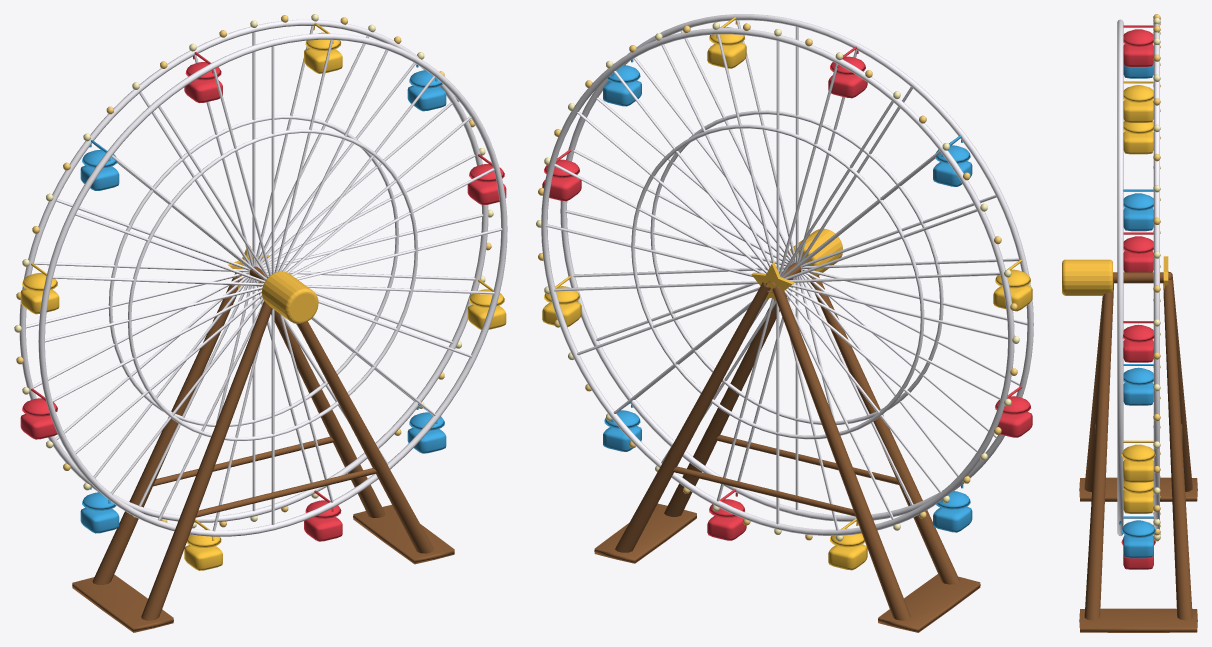
File: PumpFerrisWheel.obj
The picture shows the model from 3 angles, left to right: view 1: azimuth 30°, elevation 25°; view 2: azimuth 150°, elevation 25°; view 3: azimuth 270°, elevation 25°; orthographic projection. The views are drawn at different scales.
Visible parts, largest first — view 1: Wheel, Frame, CarsB, CarsC, CarsA, Hub, BulbsA, BulbsB; view 2: Wheel, Frame, CarsC, CarsA, CarsB, Hub, BulbsA, BulbsB; view 3: Frame, Wheel, CarsC, CarsB, CarsA, Hub, BulbsA, BulbsB.
Part boxes in pixels (x1,y1,x2,y2): Wheel: [19, 19, 507, 536]; Frame: [72, 266, 454, 632]; CarsB: [80, 64, 446, 533]; CarsC: [20, 22, 506, 570]; CarsA: [20, 52, 506, 541]; Hub: [228, 245, 318, 323]; BulbsA: [14, 14, 493, 528]; BulbsB: [16, 15, 491, 527]; Wheel: [541, 14, 1033, 535]; Frame: [594, 263, 980, 632]; CarsC: [542, 17, 1032, 570]; CarsA: [542, 46, 1032, 540]; CarsB: [603, 59, 972, 532]; Hub: [751, 228, 842, 300]; BulbsA: [536, 22, 1019, 541]; BulbsB: [538, 23, 1017, 540]; Frame: [1079, 271, 1197, 632]; Wheel: [1117, 19, 1159, 535]; CarsC: [1120, 81, 1155, 513]; CarsB: [1119, 63, 1155, 558]; CarsA: [1119, 25, 1155, 569]; Hub: [1062, 256, 1168, 300]; BulbsA: [1153, 17, 1160, 540]; BulbsB: [1153, 14, 1160, 541].
Bounding box in the file's own units: 57.9 × 63.36 × 14.9.
